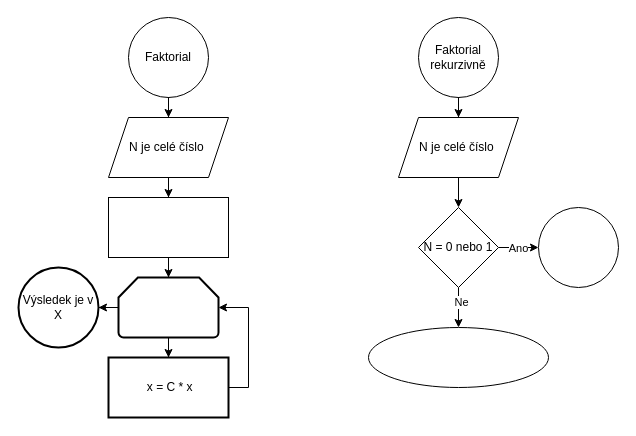
The diagram is 636 pixels wide and 436 high, and some of its shapes have lost their labels. Each missing label, with the box of its shape:
Pro čísla C od N do 1: (117, 276, 219, 338)
Výsledek je 1: (538, 206, 618, 288)
Výsledek je: N * Faktoriál_rekurzivně (N-1): (368, 326, 548, 388)
x = 1: (108, 196, 228, 258)
